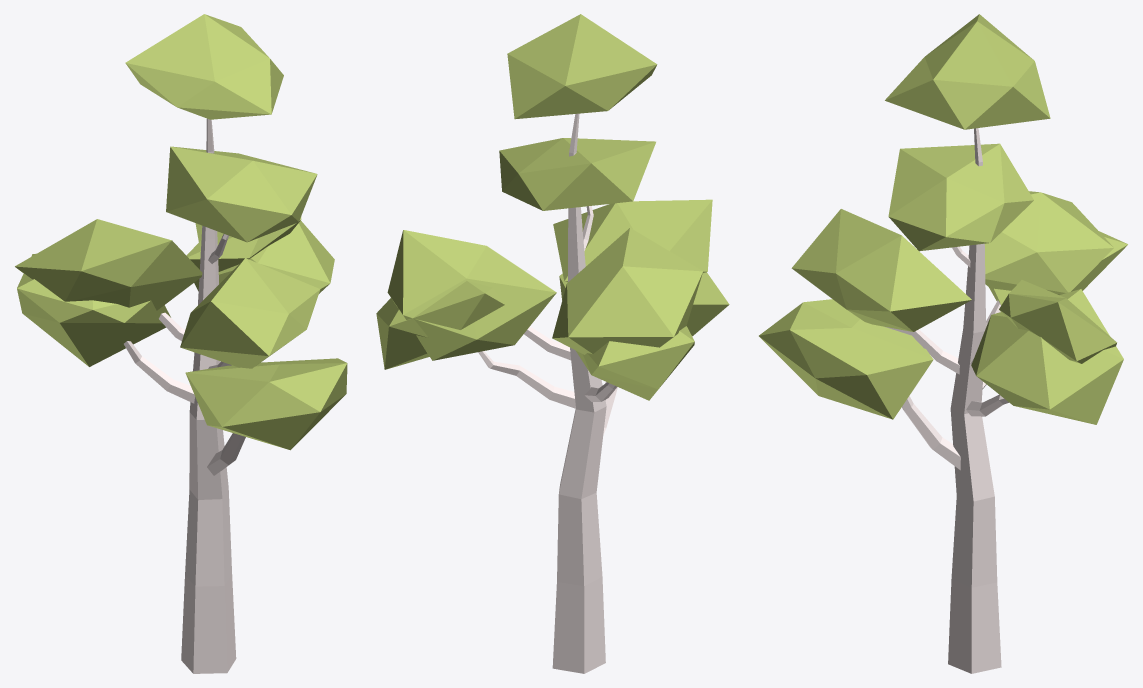
The model's file is Birch_003.fbx.
3 renders of one model, left to right at view 1: azimuth 30°, elevation 25°; view 2: azimuth 150°, elevation 25°; view 3: azimuth 270°, elevation 25°, orthographic.
Visible parts, largest first — view 1: Birch.003; view 2: Birch.003; view 3: Birch.003.
Boxes of the visible parts, bbox=[...] form: Birch.003: bbox=[15, 14, 347, 673]; Birch.003: bbox=[376, 14, 729, 673]; Birch.003: bbox=[759, 14, 1127, 673].
Size of the model in its own units: 3.54 by 6.91 by 3.62.
